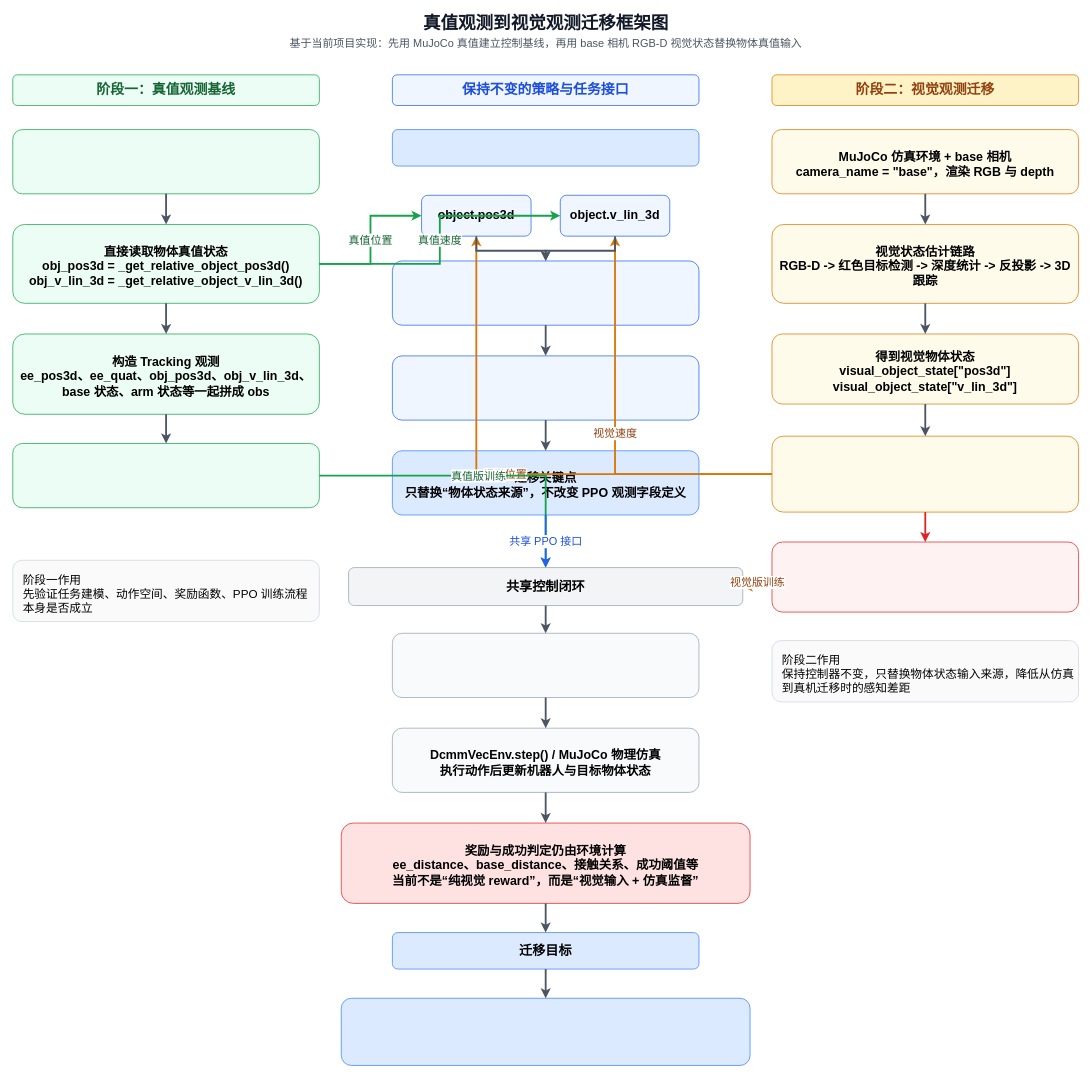
Image size: 1091x1078. Some labels were removed from this diagram. Each missing label, with the box of its shape:
MuJoCo 仿真环境 机器人、目标物体、动力学、碰撞、奖励计算: (12, 129, 319, 194)
PPO 以理想物体状态训练 先验证底盘 + 机械臂协同触碰任务是否可学: (12, 443, 319, 508)
PPO 策略输出 9 维动作 底盘控制 + 7 关节机械臂 + 夹爪: (392, 633, 699, 698)
其余机器人状态保持不变 ee_pos3d、ee_quat、base_vel、arm_qpos 等: (392, 260, 699, 325)
写回相同观测字段 object.pos3d = 视觉位置 object.v_lin_3d = 视觉速度（当前正式训练开启）: (771, 435, 1079, 512)
同一个 Actor-Critic / PPO 训练框架 网络结构、GAE、PPO loss、优化流程不需要重写: (392, 355, 699, 420)
失败时不回退真值 fallback_to_ground_truth = False 视觉丢失目标时直接返回零向量: (771, 541, 1079, 612)
把“直接读取物体真值”改造成“由视觉估计物体状态” 使策略输入形式更接近真实机器人部署场景: (341, 998, 750, 1065)
统一的 PPO 状态接口: (392, 129, 699, 166)
